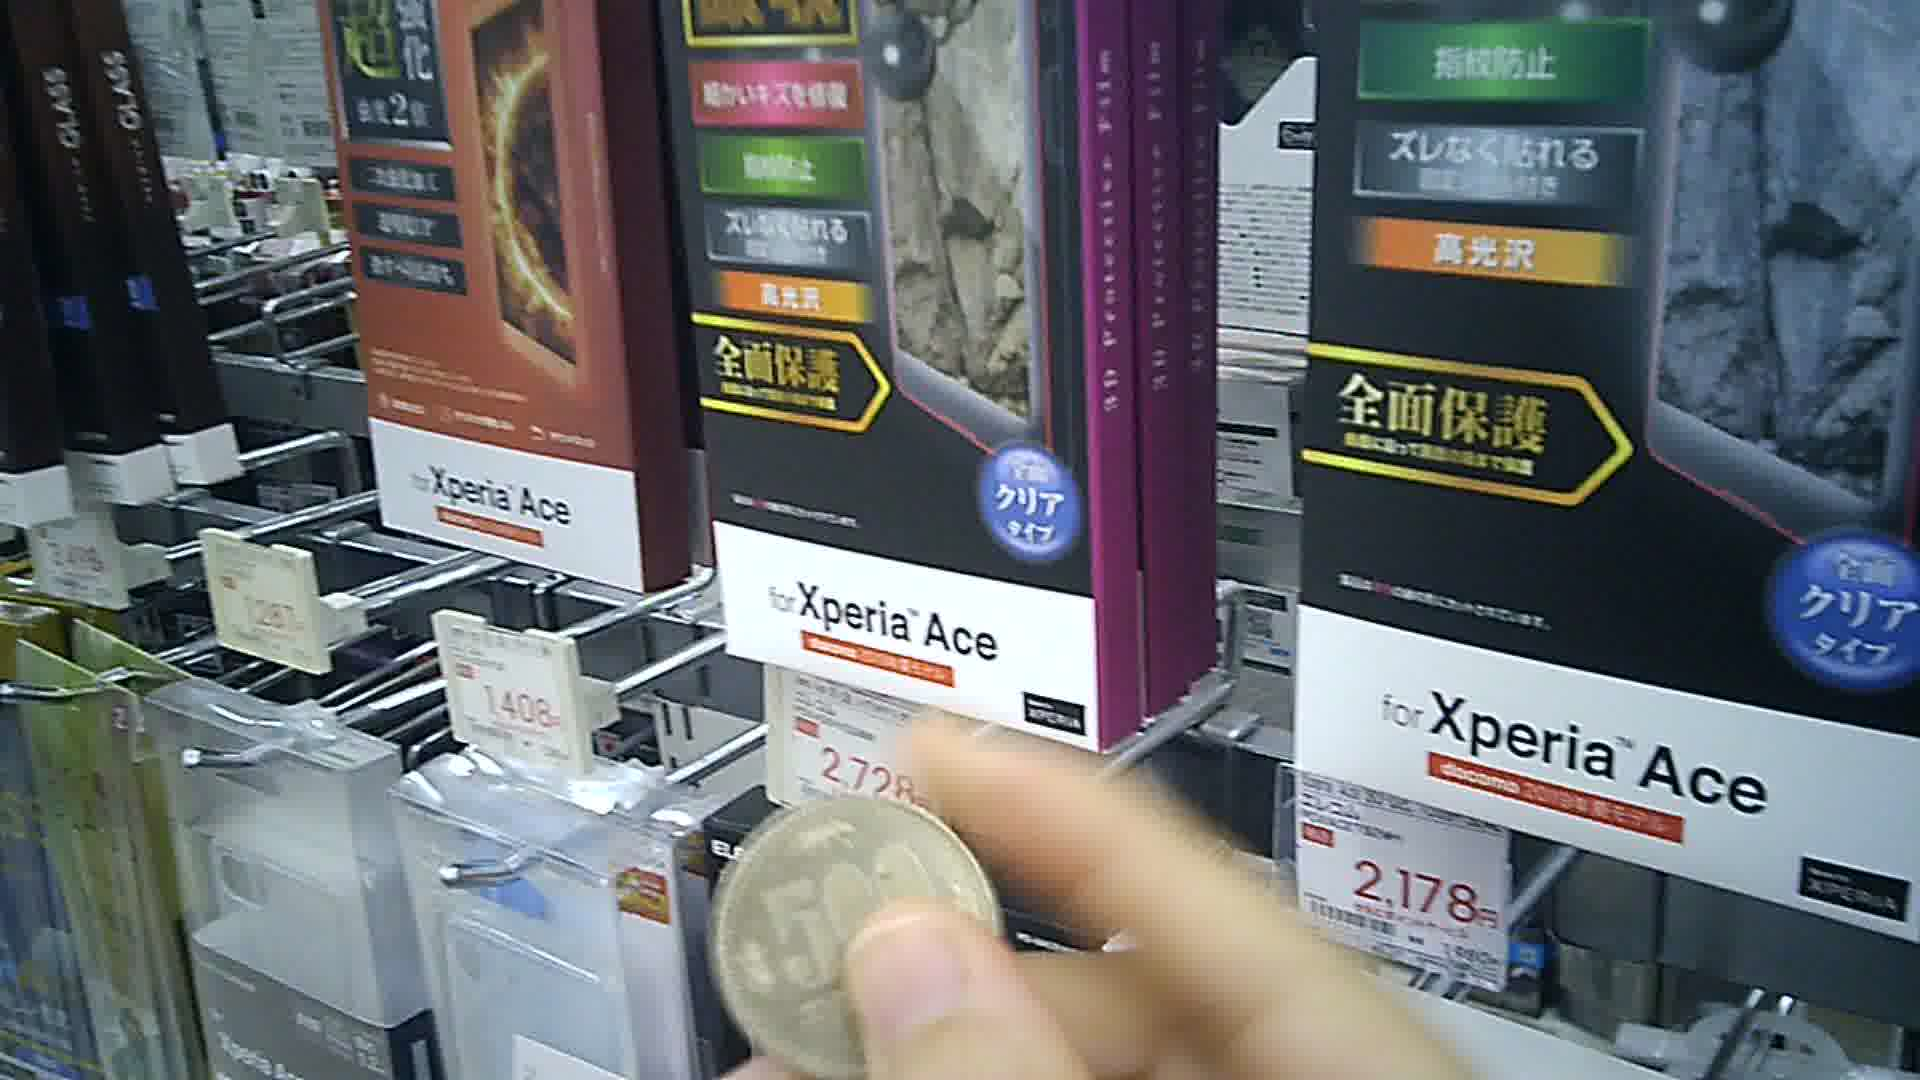500 Yen: (705, 798, 1015, 1077)
